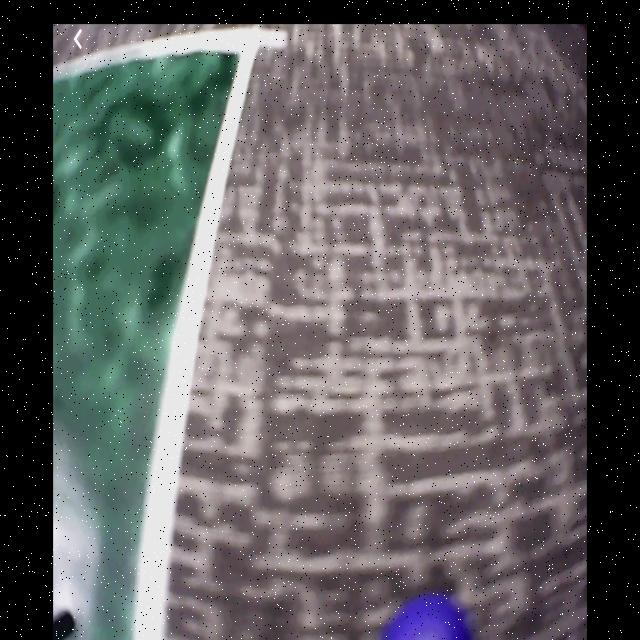ball: (387, 597, 470, 640)
